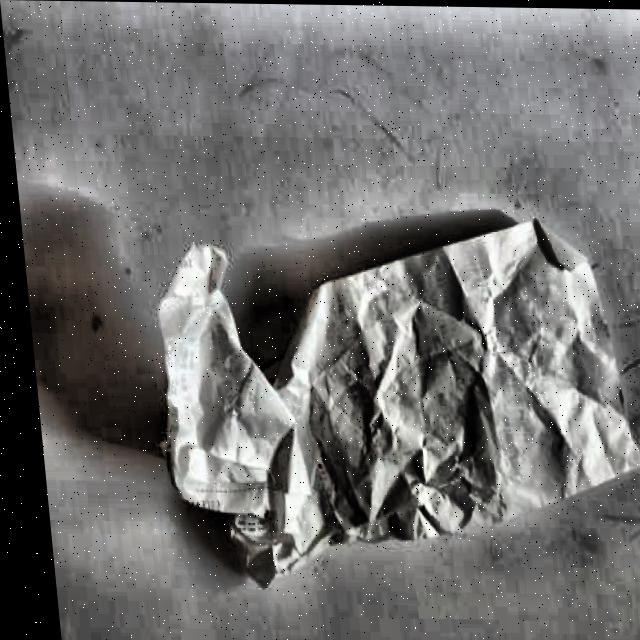paper: (137, 213, 640, 596)
